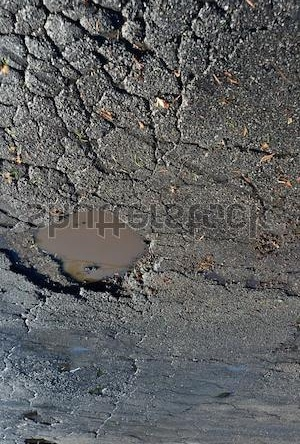pothole: (4, 205, 164, 307), (21, 410, 65, 427), (19, 436, 59, 443)
